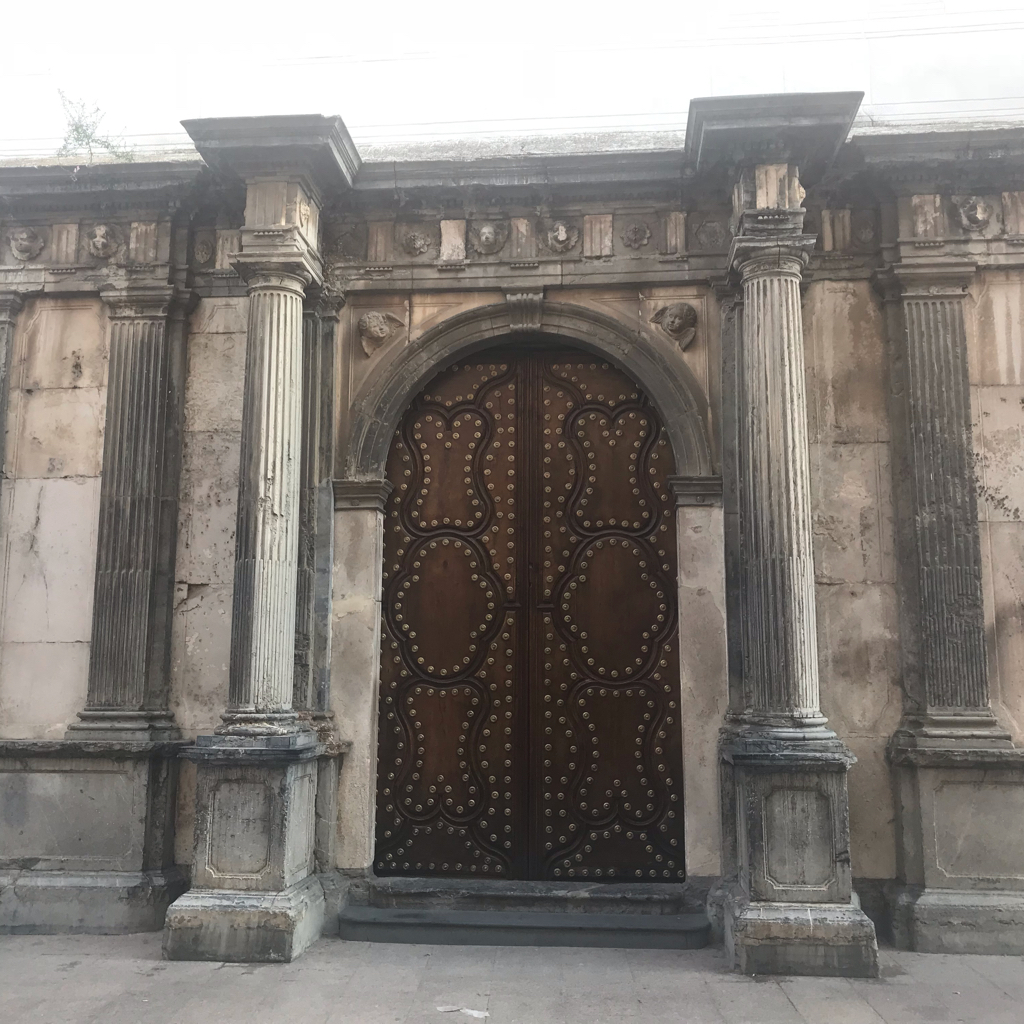arco-medio-punto: (362, 308, 700, 524)
